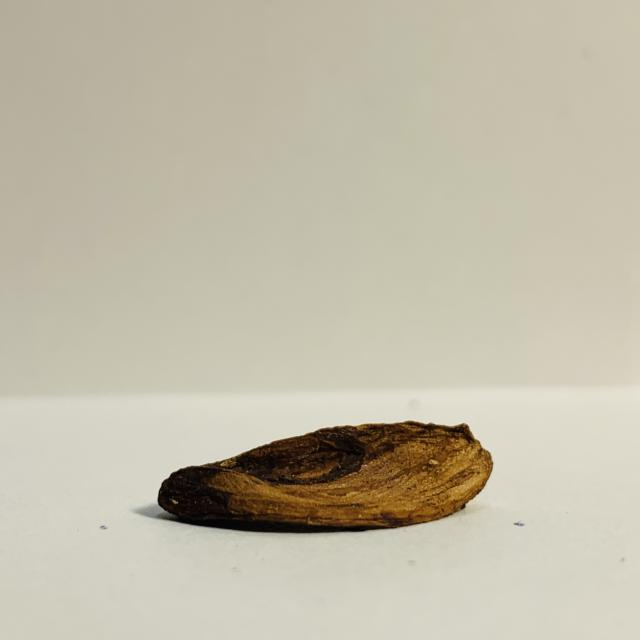Flat_cocoabeans: (92, 396, 609, 567)
